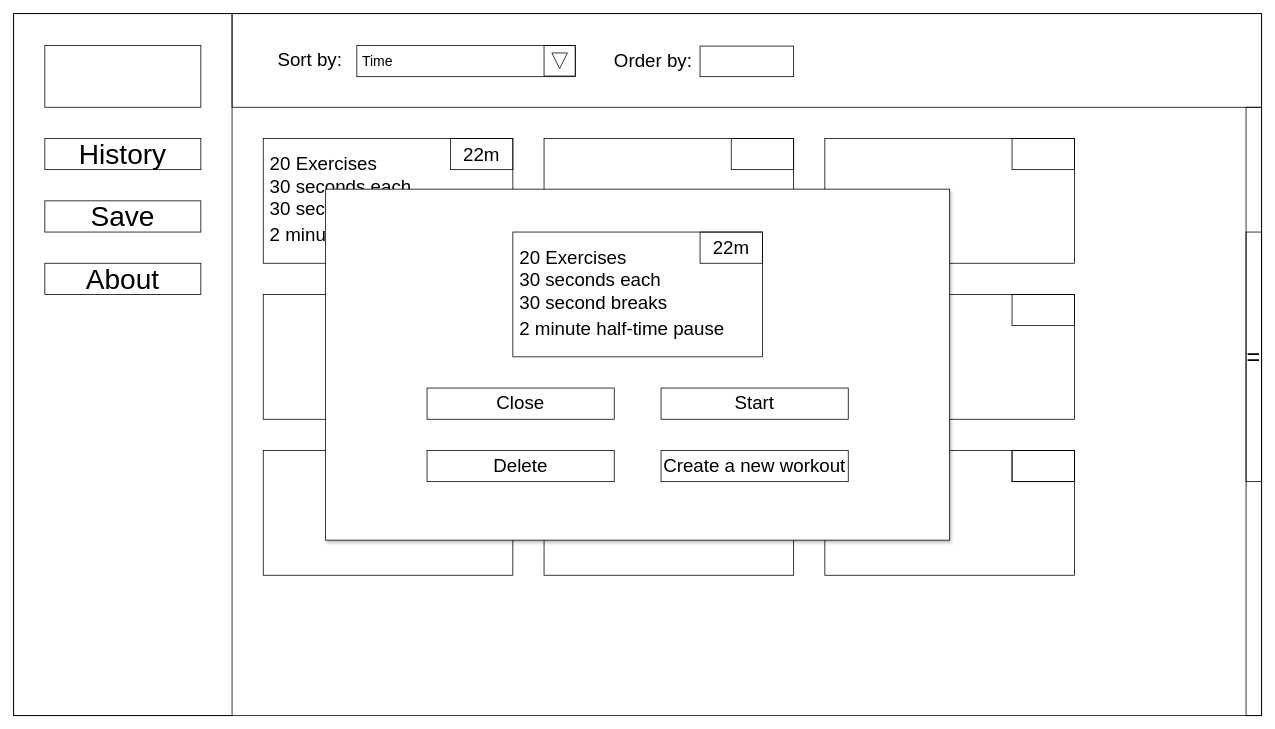
The diagram is 1275 pixels wide and 729 high, and some of its shapes have lost their labels. Each missing label, with the centre of its shape:
"Ascending" belongs at (x=746, y=61).
"Create Workout" belongs at (x=122, y=76).
